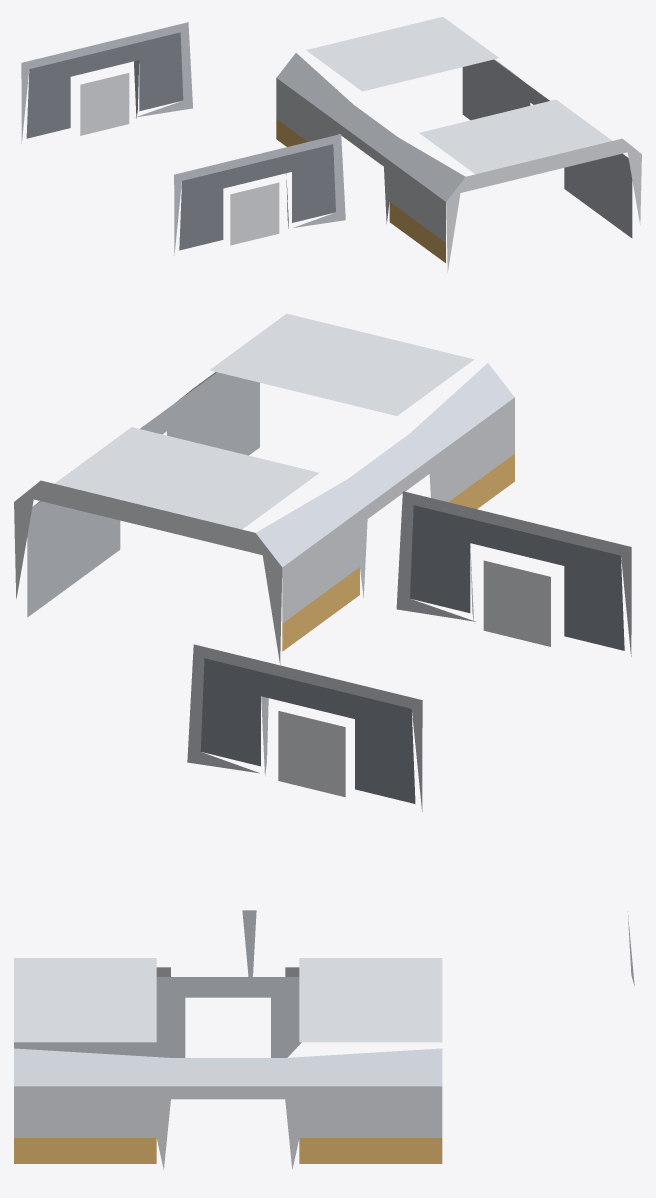
The model's file is hangar_largeA_lod1.glb.
The picture shows the model from 3 angles, top to bottom: view 1: azimuth 30°, elevation 25°; view 2: azimuth 150°, elevation 25°; view 3: azimuth 270°, elevation 25°; orthographic projection. The views are drawn at different scales.
Parts seen in each view (by area): view 1: hangar_largeA.001, gate.008, gate.009; view 2: hangar_largeA.001, gate.008, gate.009; view 3: hangar_largeA.001, gate.009.
Boxes of the visible parts, x1,y1,x2,y2 form: hangar_largeA.001: (276,17,641,272); gate.008: (21,22,192,143); gate.009: (174,134,345,255); hangar_largeA.001: (14,313,514,664); gate.008: (187,644,422,811); gate.009: (396,491,631,656); hangar_largeA.001: (14,958,442,1169); gate.009: (242,910,256,976).
Size of the model in its own units: 3.9 by 1 by 4.4.
